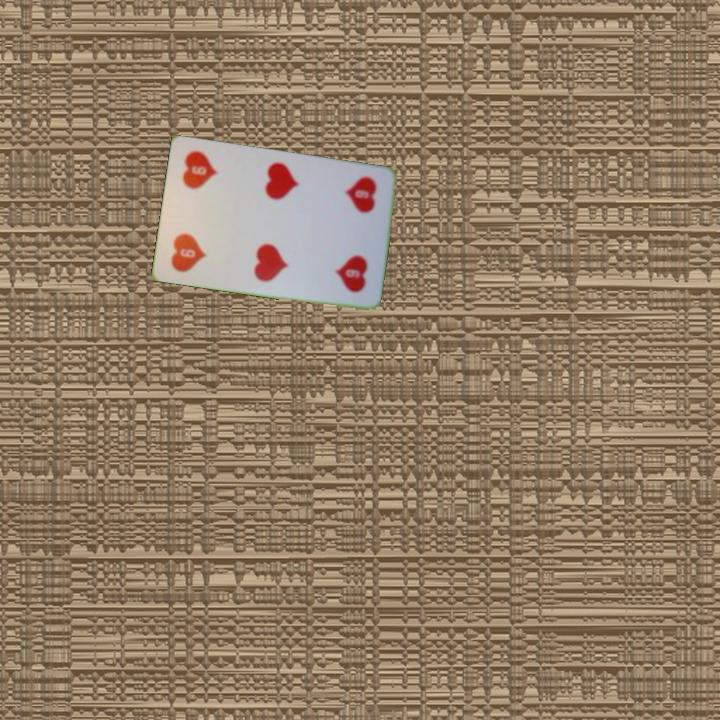h_6.png: (322, 168, 389, 242), (162, 206, 228, 280)
